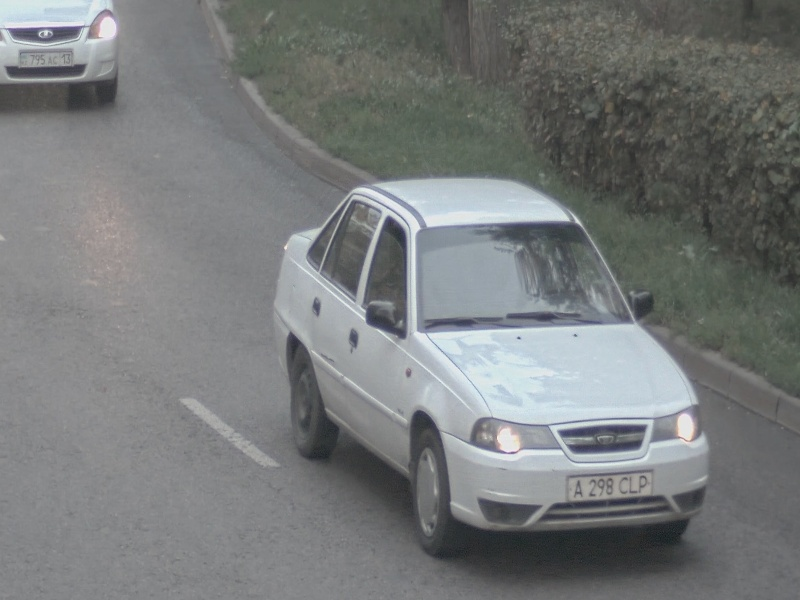plate: (566, 469, 654, 503), (19, 50, 74, 68)
